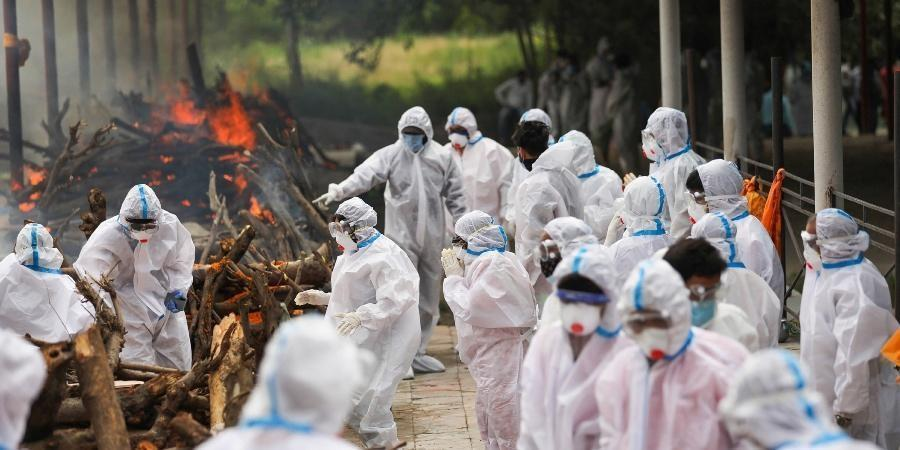apron: (425, 237, 479, 297), (267, 284, 339, 318), (313, 185, 353, 225), (329, 292, 366, 331), (161, 290, 212, 318)
